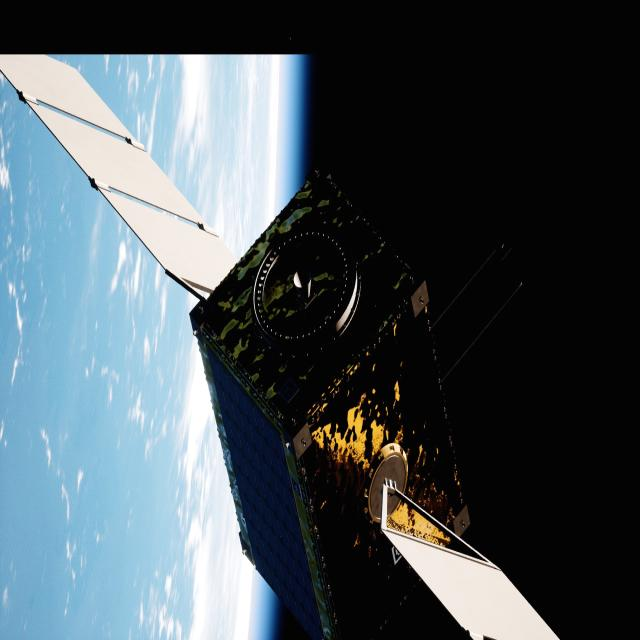satellite: (0, 55, 560, 640)
